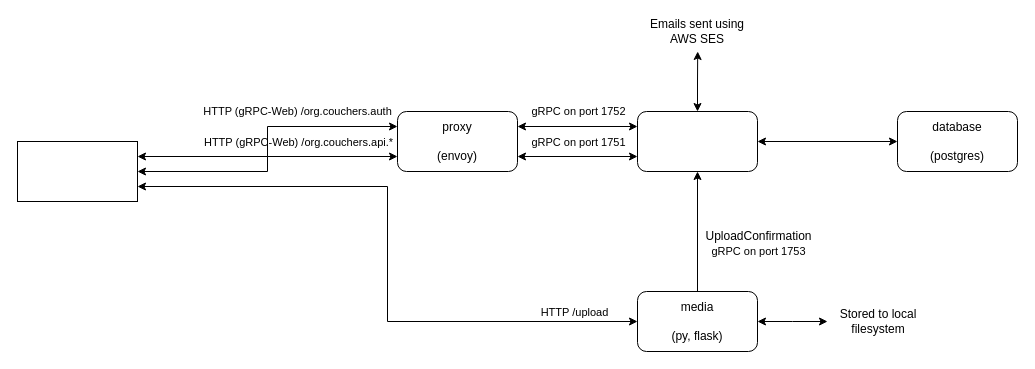
The diagram is 1035 pixels wide and 369 high, and some of its shapes have lost their labels. The centre of each missing label's shape, as x and y in pixels:
backend (py, sqlalchemy, grpc): pixel 697 141
frontend (ts, vue, vuetify): pixel 77 171
